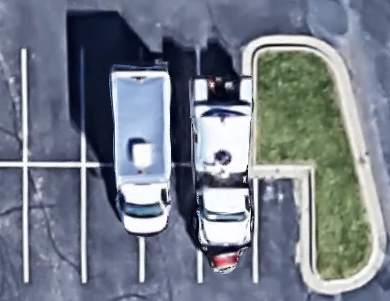Occupied: (83, 165, 143, 283), (83, 48, 142, 167), (142, 164, 200, 284), (142, 49, 198, 165), (199, 167, 254, 283), (198, 49, 252, 166)
Vacant: (24, 49, 85, 167), (24, 166, 84, 283), (255, 169, 309, 282)
